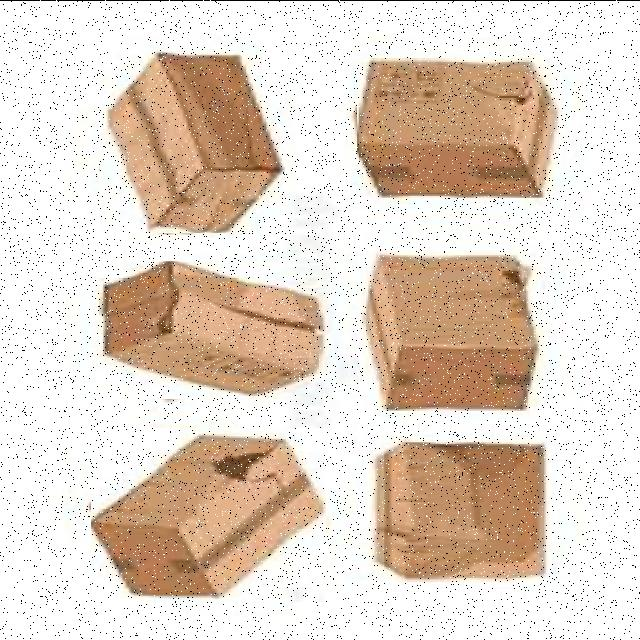defect: (91, 428, 326, 602), (100, 43, 285, 232), (360, 231, 545, 420), (95, 260, 334, 398), (357, 52, 563, 206), (366, 436, 557, 584)
